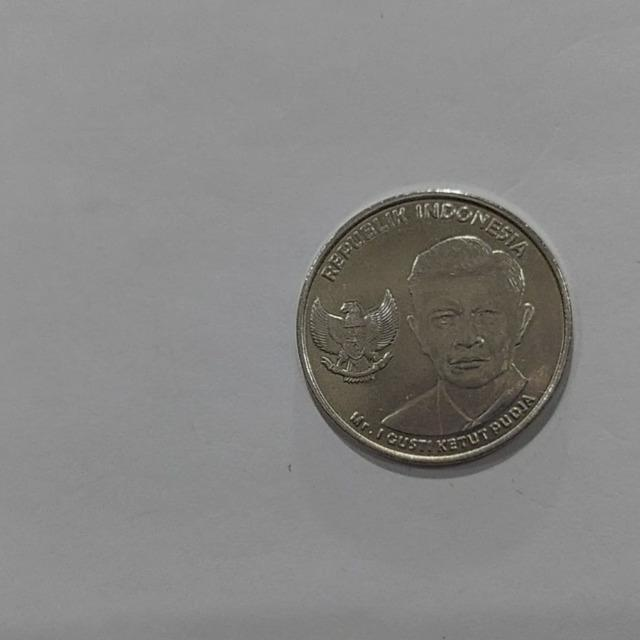Rp100: (295, 187, 574, 468), (375, 231, 539, 439)
